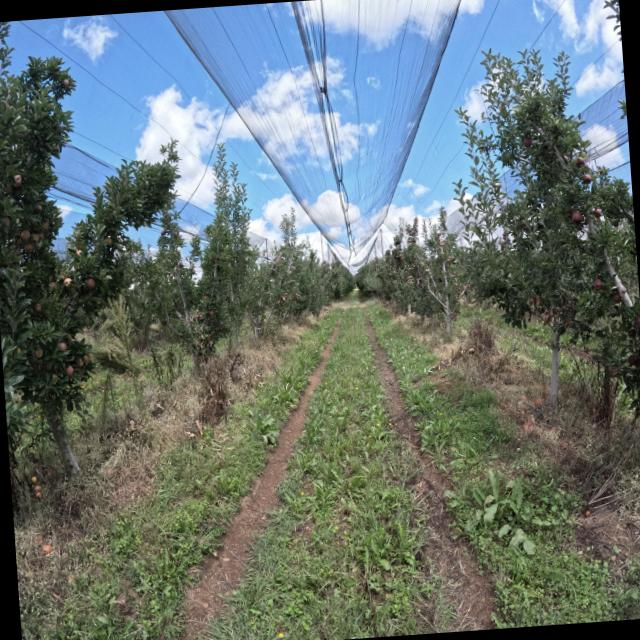-FireBlight-: (543, 306, 560, 326), (535, 296, 540, 307)
